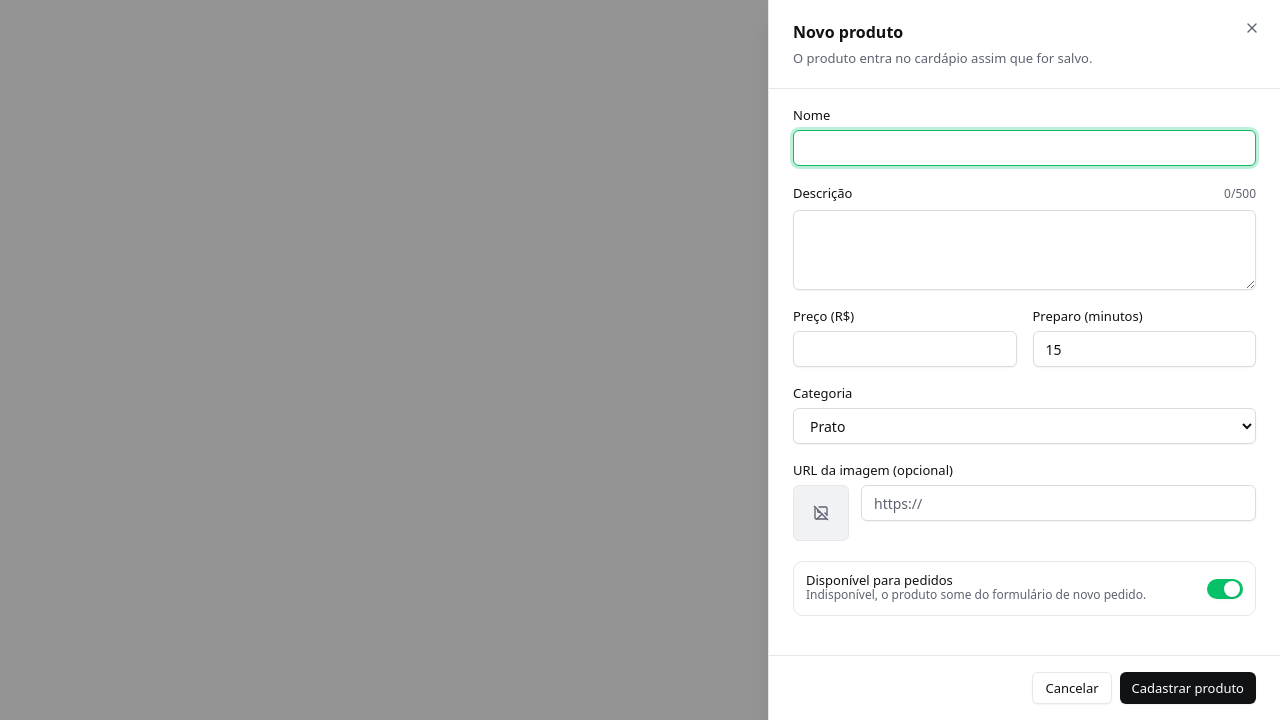
Scenario: ProductFormSheet › sends typed values and shows an error the API still refuses on its field
In the field labelled "Nome": {"x": 1024, "y": 148} [793,130,1256,166], type "Suco de Uva"
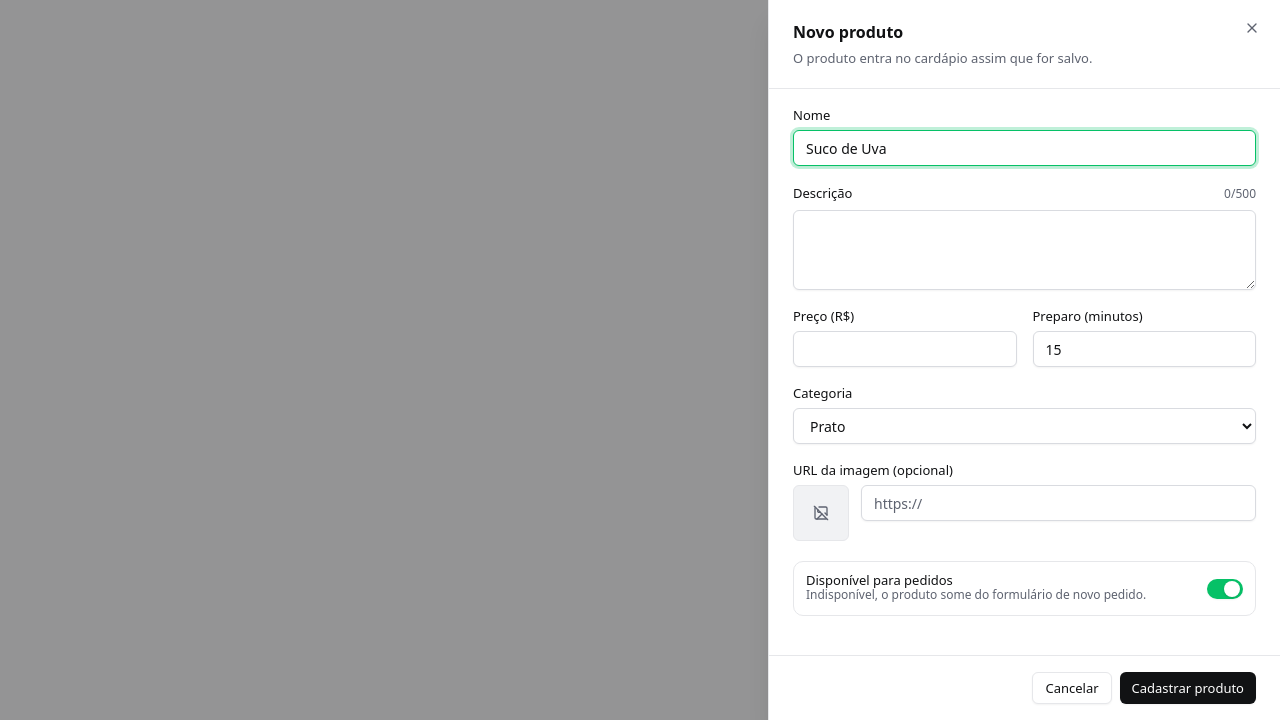
In the text box labelled "Descrição": {"x": 1024, "y": 250} [793,210,1256,290], type "Suco de uva integral, 500 ml"
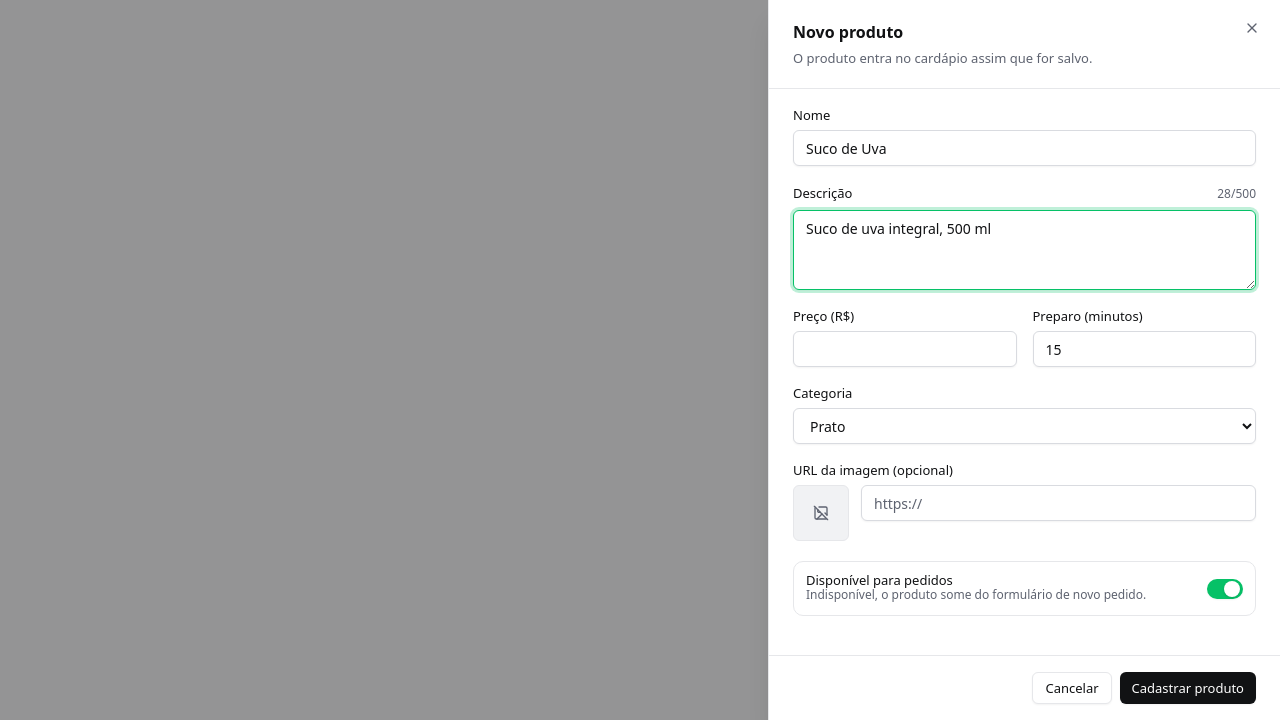
In the number field labelled "Preço (R$)": {"x": 905, "y": 349} [793,331,1016,367], type "11.5"
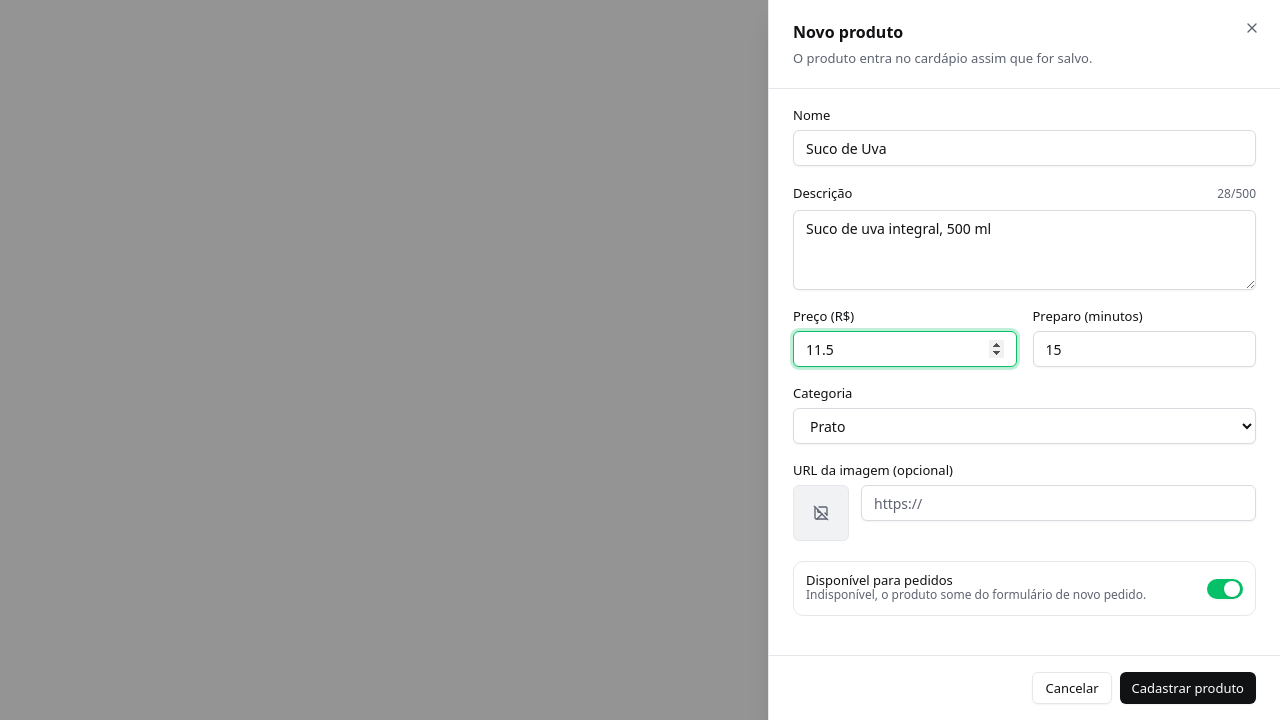
Select "Bebida" in the dropdown labelled "Categoria": {"x": 1024, "y": 426} [793,408,1256,444]
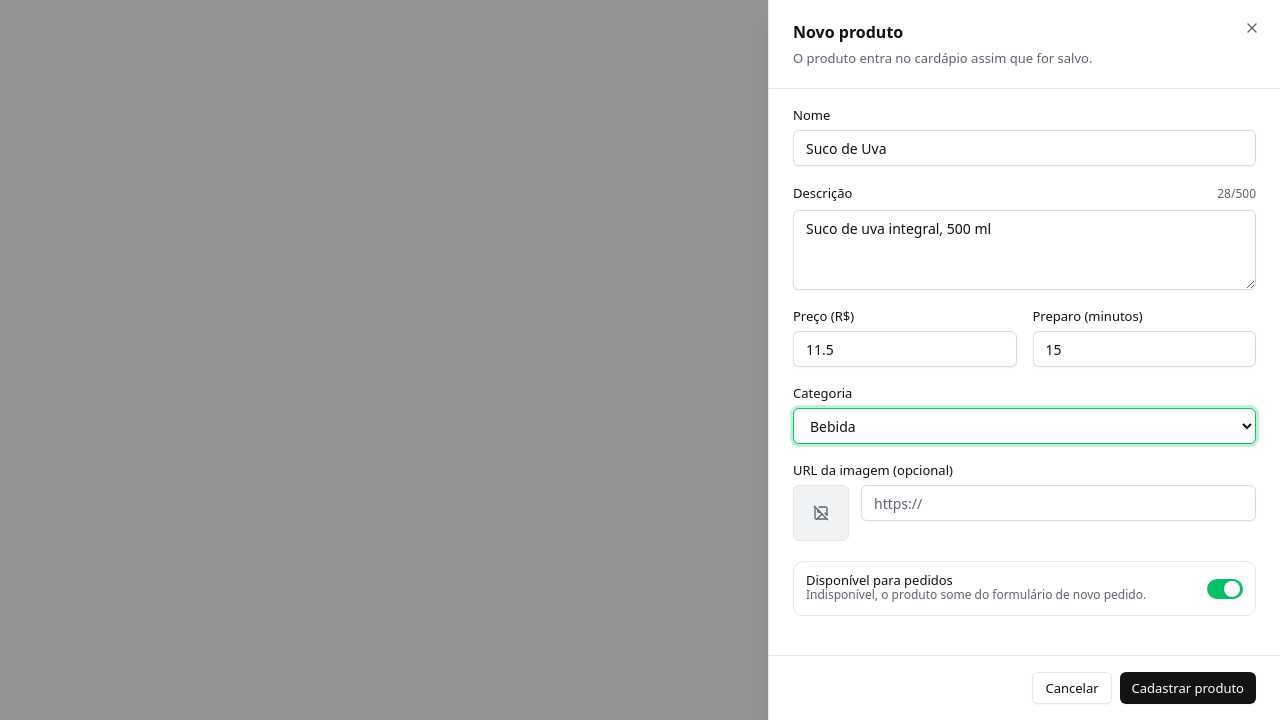
Click the button "Cadastrar produto": {"x": 1188, "y": 688} [1120,672,1256,704]
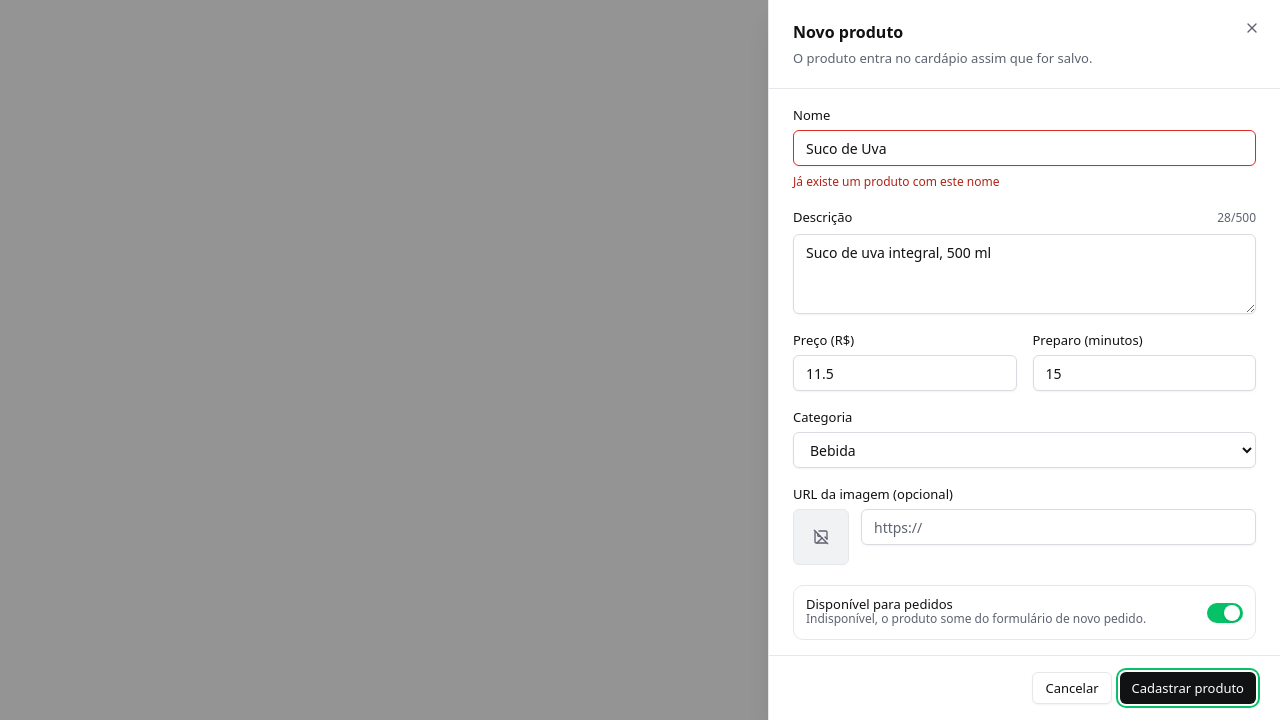
Check: the text "Já existe um produto com este nome" is shown, box [793,173,1000,190]
